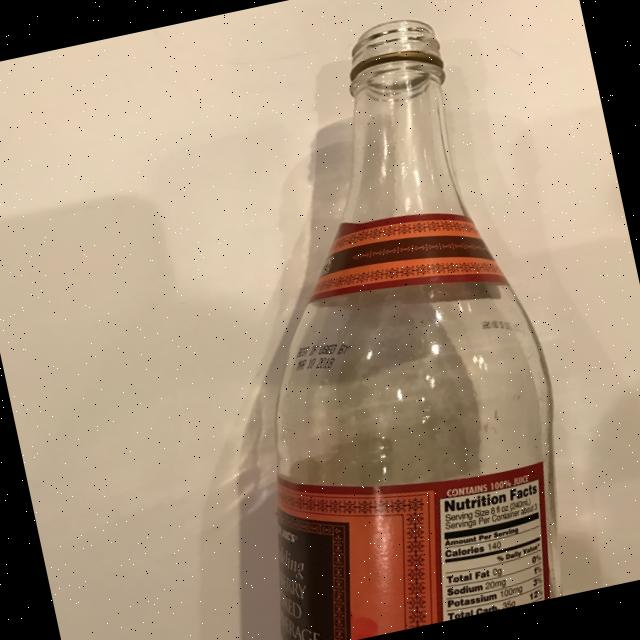glass: (156, 3, 595, 640)
